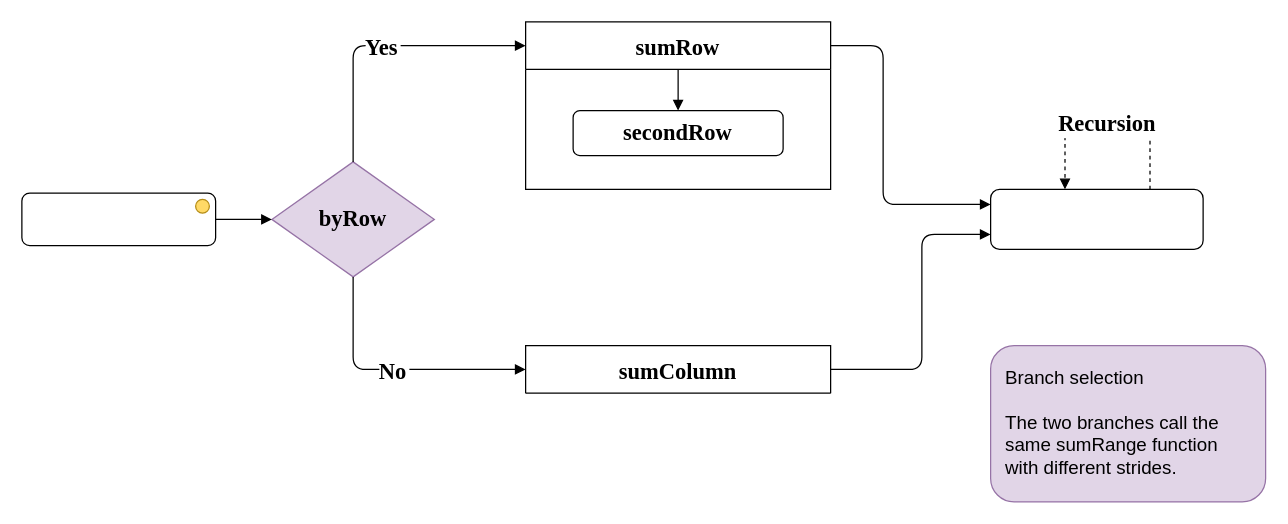
The diagram is 1288 pixels wide and 524 high, and some of its shapes have lost their labels. The shapes that lost their labels are listed below. From the top down, each one's box as (x1, y1, x2, y2) in pixels, then its label:
(21, 192, 216, 246): sumGrid
(989, 188, 1203, 249): sumRange
